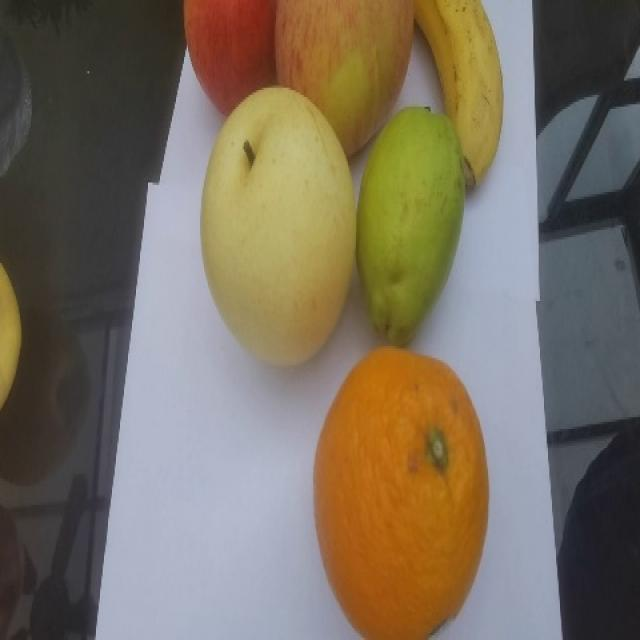Apple: (273, 0, 411, 162), (181, 1, 312, 127)
Banana: (414, 0, 508, 191)
Orange: (314, 339, 488, 639)
